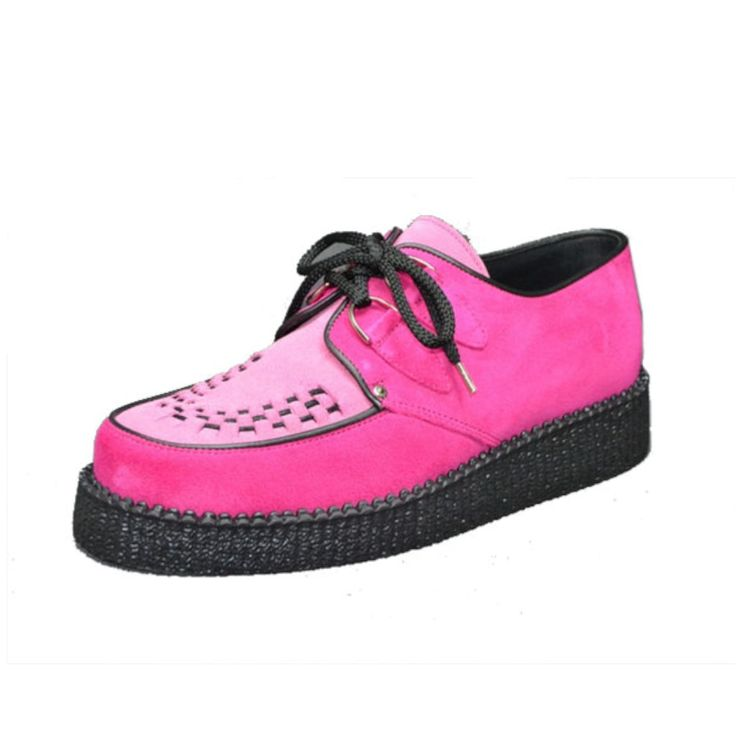gamuza: (94, 213, 642, 516)
